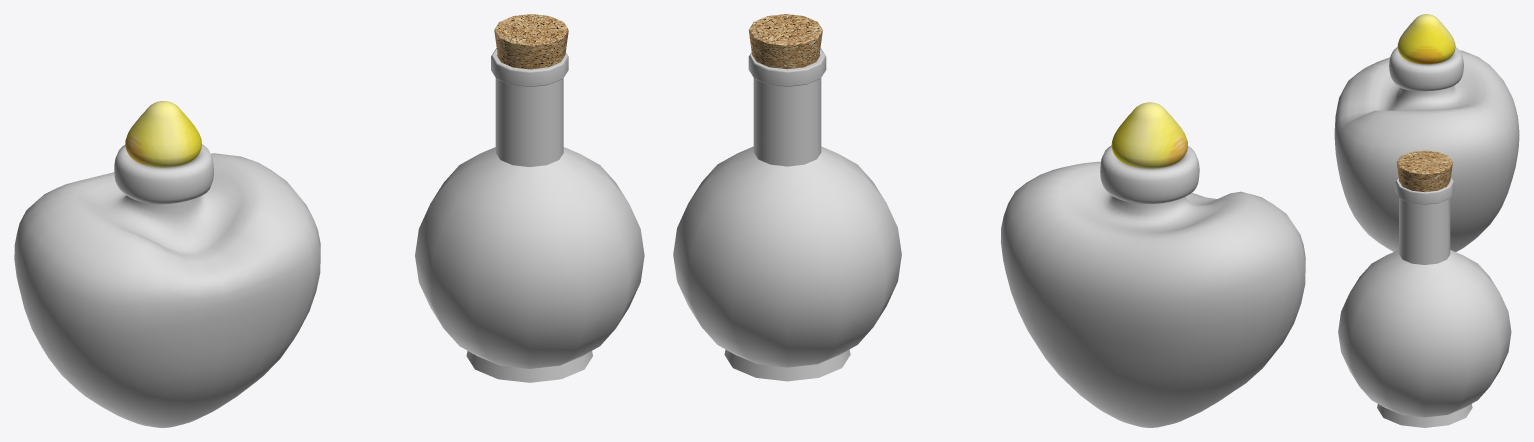
Rendered from RunnerPotion.fbx.
3 views of the same model, side by side, from view 1: azimuth 30°, elevation 25°; view 2: azimuth 150°, elevation 25°; view 3: azimuth 270°, elevation 25° (orthographic). The views are drawn at different scales.
Parts seen in each view (by area): view 1: Bottle-Love, Bottle-Hate, Love-Cork, Hate-Cork; view 2: Bottle-Love, Bottle-Hate, Love-Cork, Hate-Cork; view 3: Bottle-Hate, Bottle-Love, Love-Cork, Hate-Cork.
Boxes of the visible parts, x1=… form: Bottle-Love: x1=14, y1=144, x2=320, y2=427; Bottle-Hate: x1=415, y1=48, x2=644, y2=382; Love-Cork: x1=125, y1=101, x2=201, y2=167; Hate-Cork: x1=494, y1=14, x2=568, y2=69; Bottle-Love: x1=1000, y1=145, x2=1305, y2=427; Bottle-Hate: x1=673, y1=48, x2=901, y2=381; Love-Cork: x1=1111, y1=102, x2=1187, y2=168; Hate-Cork: x1=748, y1=14, x2=822, y2=69; Bottle-Hate: x1=1338, y1=177, x2=1511, y2=427; Bottle-Love: x1=1334, y1=47, x2=1519, y2=251; Love-Cork: x1=1397, y1=14, x2=1455, y2=64; Hate-Cork: x1=1396, y1=150, x2=1452, y2=192.
Size of the model in its own units: 300 by 163 by 106.
